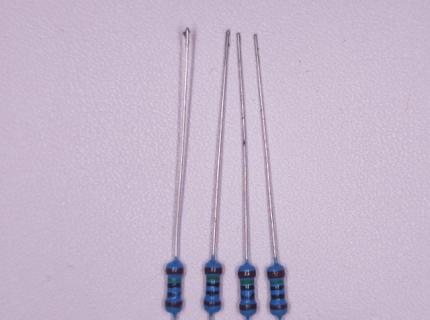Black band: (241, 293, 254, 300), (167, 292, 181, 298), (271, 294, 285, 300), (167, 283, 181, 288), (206, 282, 220, 287), (240, 285, 254, 290), (270, 285, 284, 290), (206, 290, 219, 295)
Brown band: (167, 267, 184, 275), (267, 270, 284, 278), (240, 303, 256, 311), (205, 267, 222, 274), (239, 270, 256, 277), (270, 304, 288, 310), (165, 302, 182, 308), (204, 301, 221, 306)
Green band: (207, 276, 219, 281), (167, 278, 181, 282), (240, 280, 254, 284), (270, 280, 283, 284)
